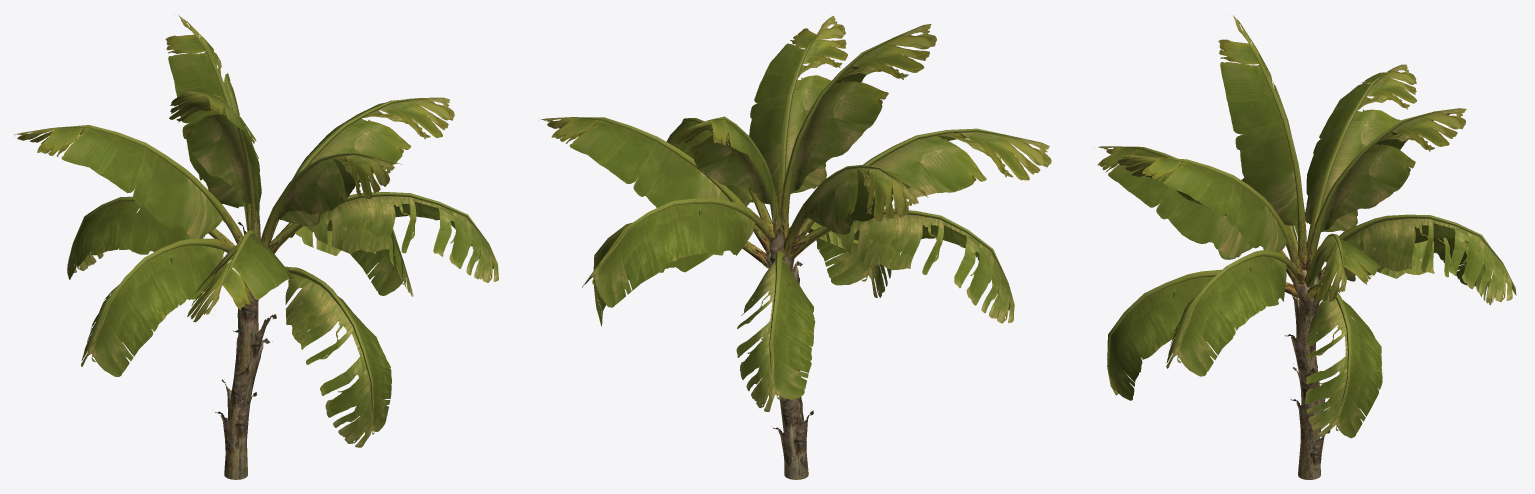
The model's file is banana_clump_vn.glb.
3 views of the same model, side by side, from view 1: azimuth 30°, elevation 25°; view 2: azimuth 150°, elevation 25°; view 3: azimuth 270°, elevation 25° (orthographic). The views are drawn at different scales.
Parts seen in each view (by area): view 1: banana_clump_vn; view 2: banana_clump_vn; view 3: banana_clump_vn.
Boxes of the visible parts, x1,y1,x2,y2 form: banana_clump_vn: (14, 15, 498, 479); banana_clump_vn: (541, 14, 1051, 479); banana_clump_vn: (1097, 15, 1516, 479).
Bounding box in the file's own units: 3.51 × 3.5 × 3.32.
Materials: 5 (5 with a texture image).
